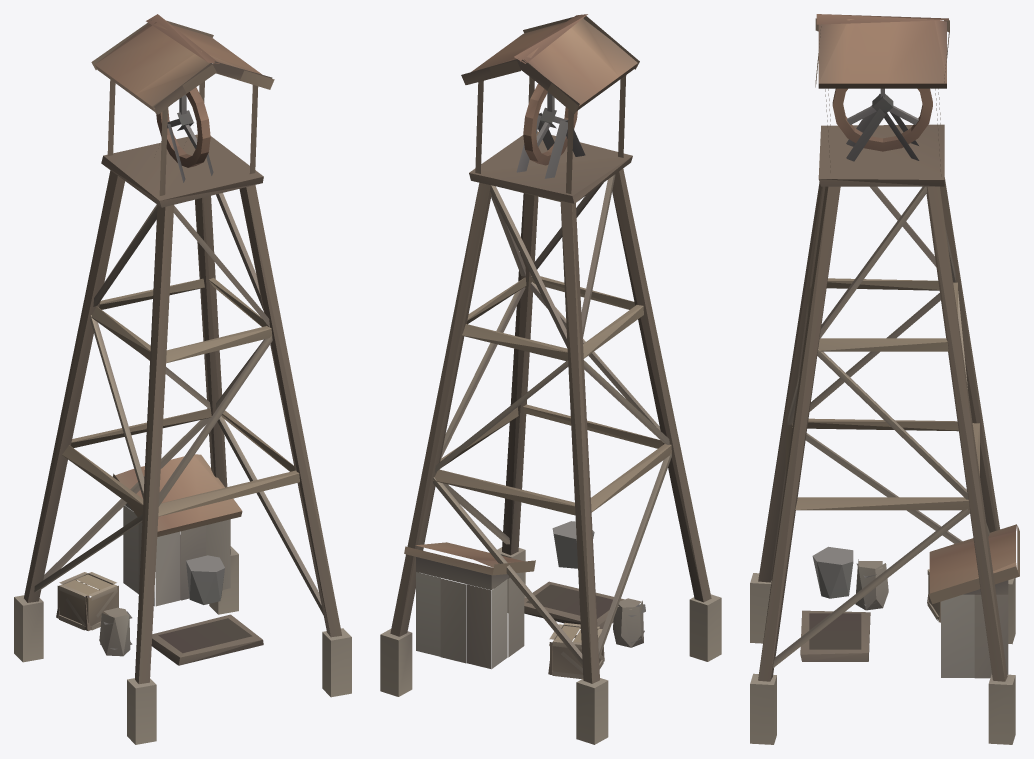
The model's file is headframe.lod1.glb.
3 views of the same model, side by side, from view 1: azimuth 30°, elevation 25°; view 2: azimuth 150°, elevation 25°; view 3: azimuth 270°, elevation 25° (orthographic). The views are drawn at different scales.
Bounding box in the file's own units: 4.34 × 12.12 × 4.41.
